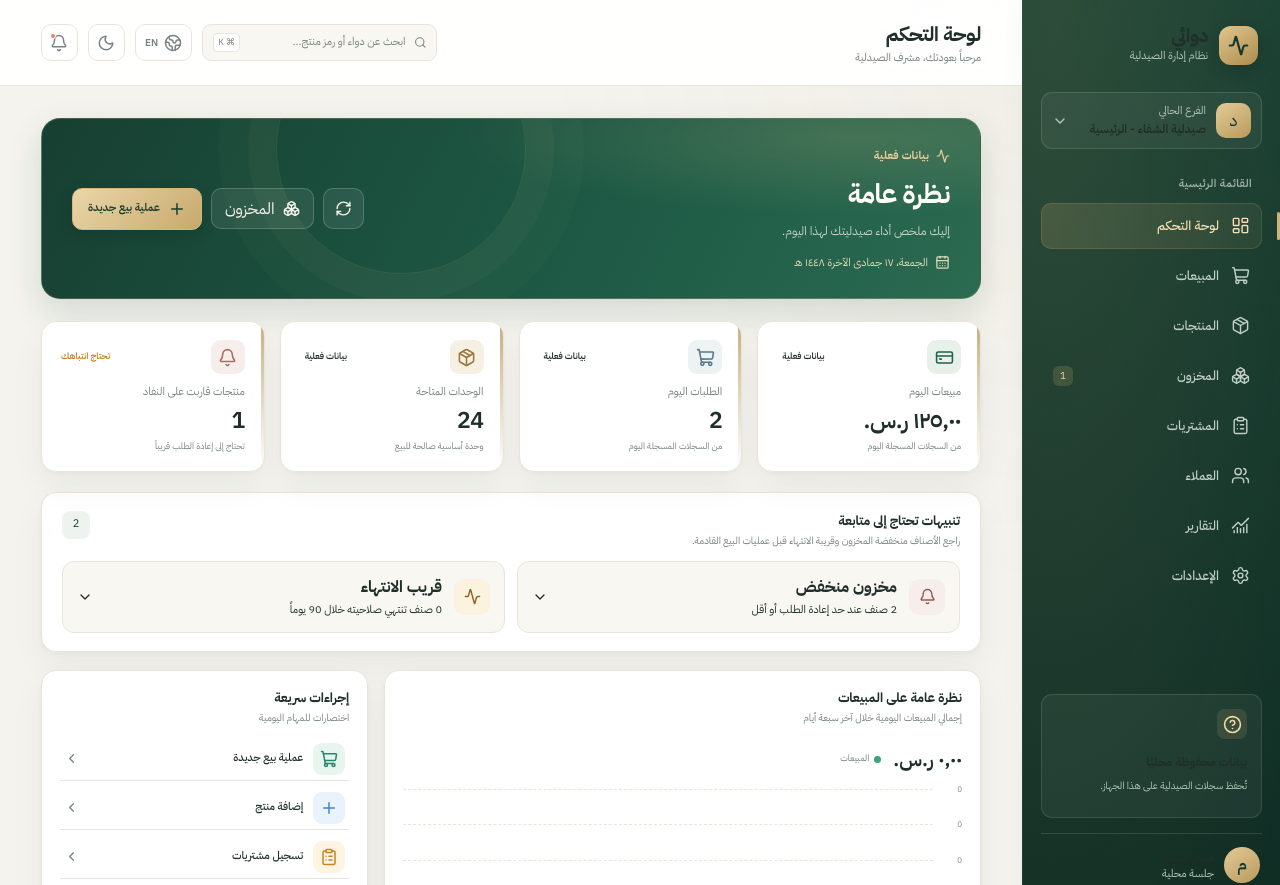
main application shell › filters point-of-sale products by stock and searches using Arabic-Indic barcode digits
Click the button "المبيعات" at (1152, 276), box [1041, 252, 1262, 298]
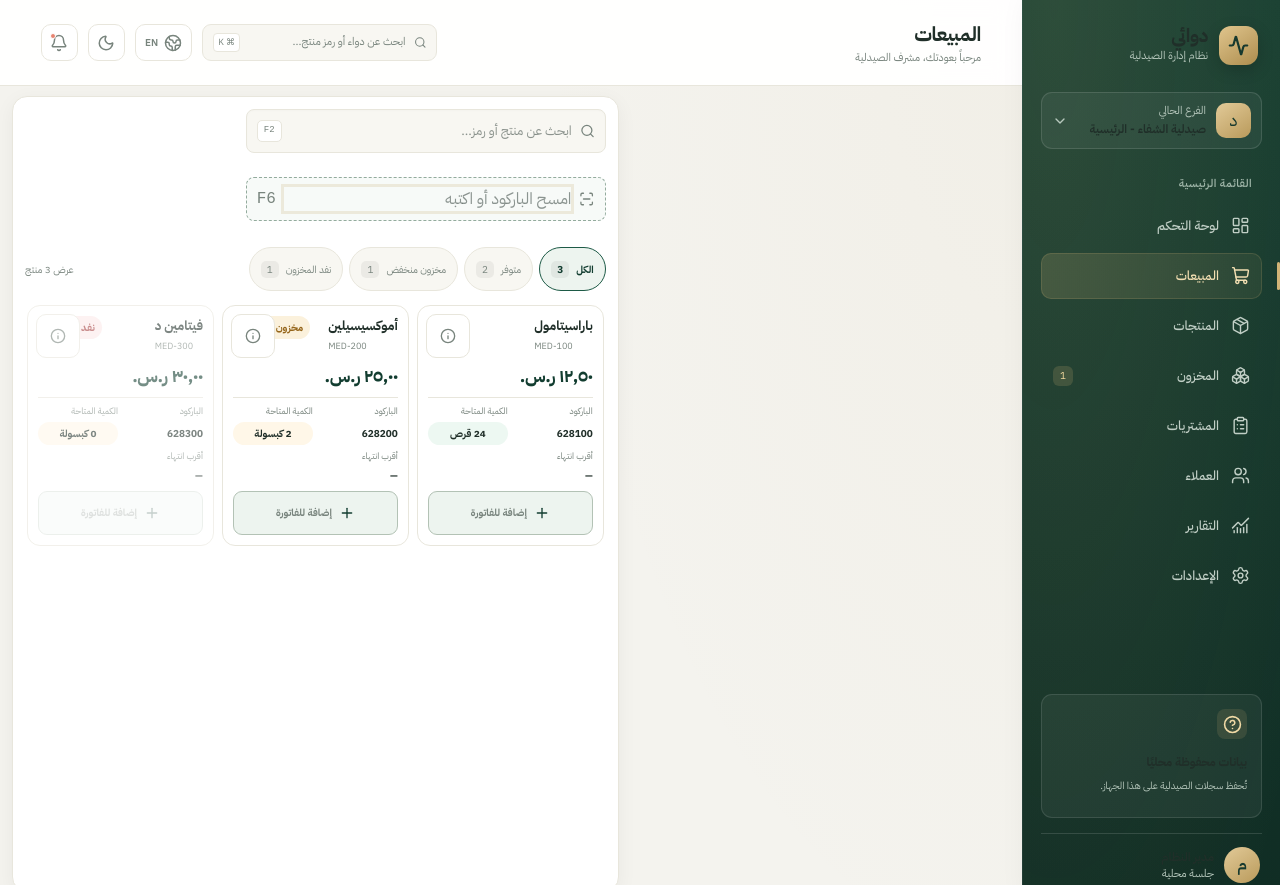
Type "٦٢٨١٠٠" into the field named "ابحث عن منتج أو رمز..." at (431, 131), box [290, 121, 572, 141]
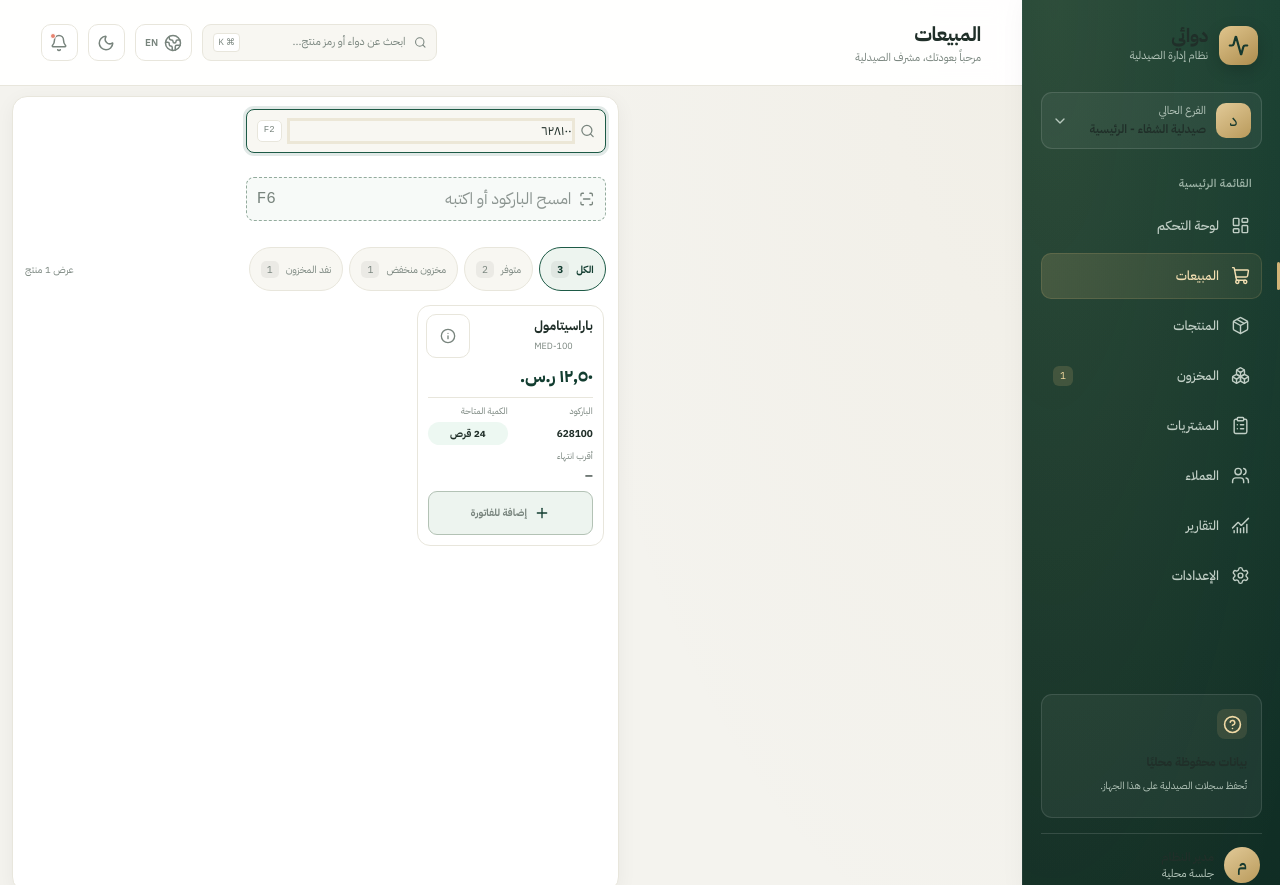
Check: the heading "باراسيتامول" is shown, box [534, 316, 593, 336]
Check: the button "أموكسيسيلين" is gone
Clear the field named "ابحث عن منتج أو رمز..." at (431, 131), box [290, 121, 572, 141]
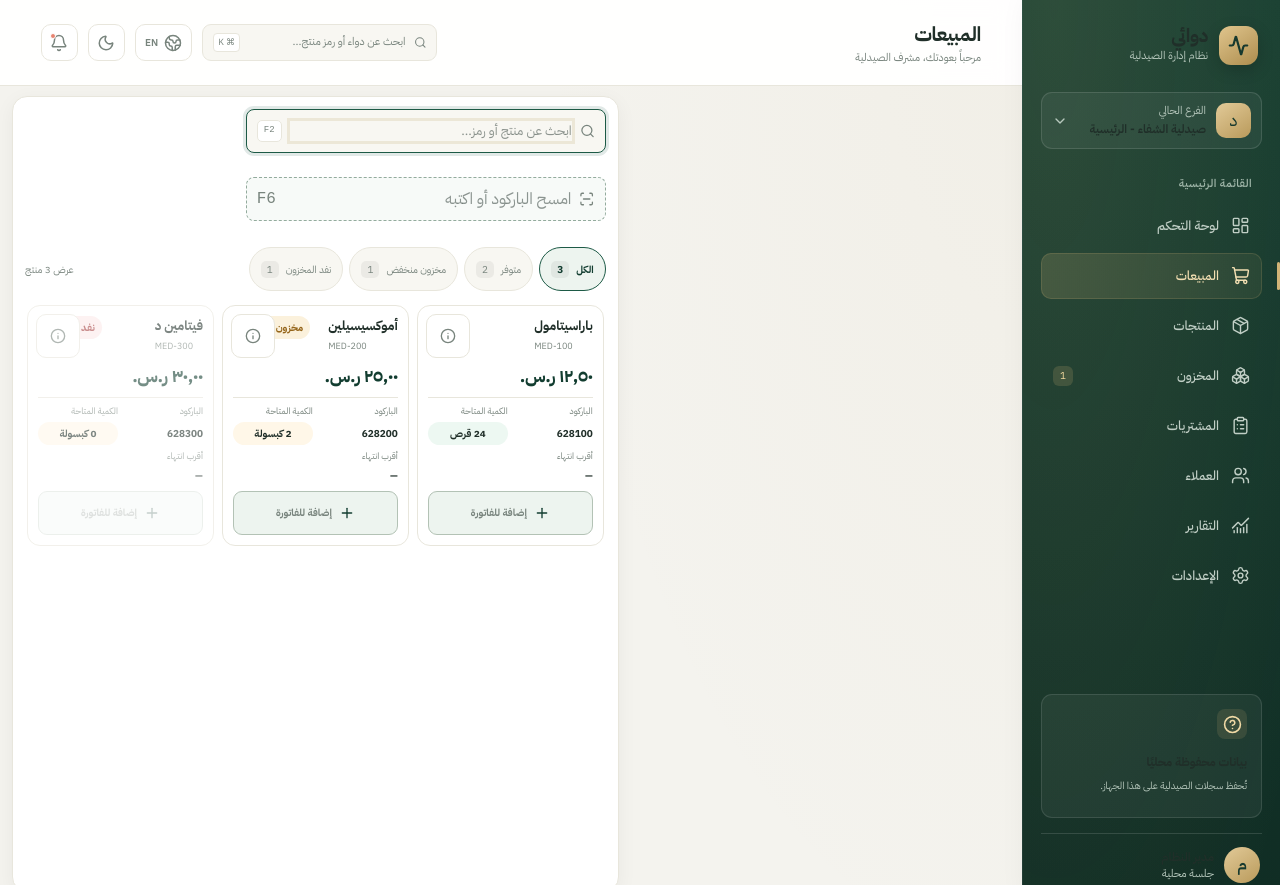
Click the button "مخزون منخفض 1" at (404, 269), box [349, 247, 458, 291]
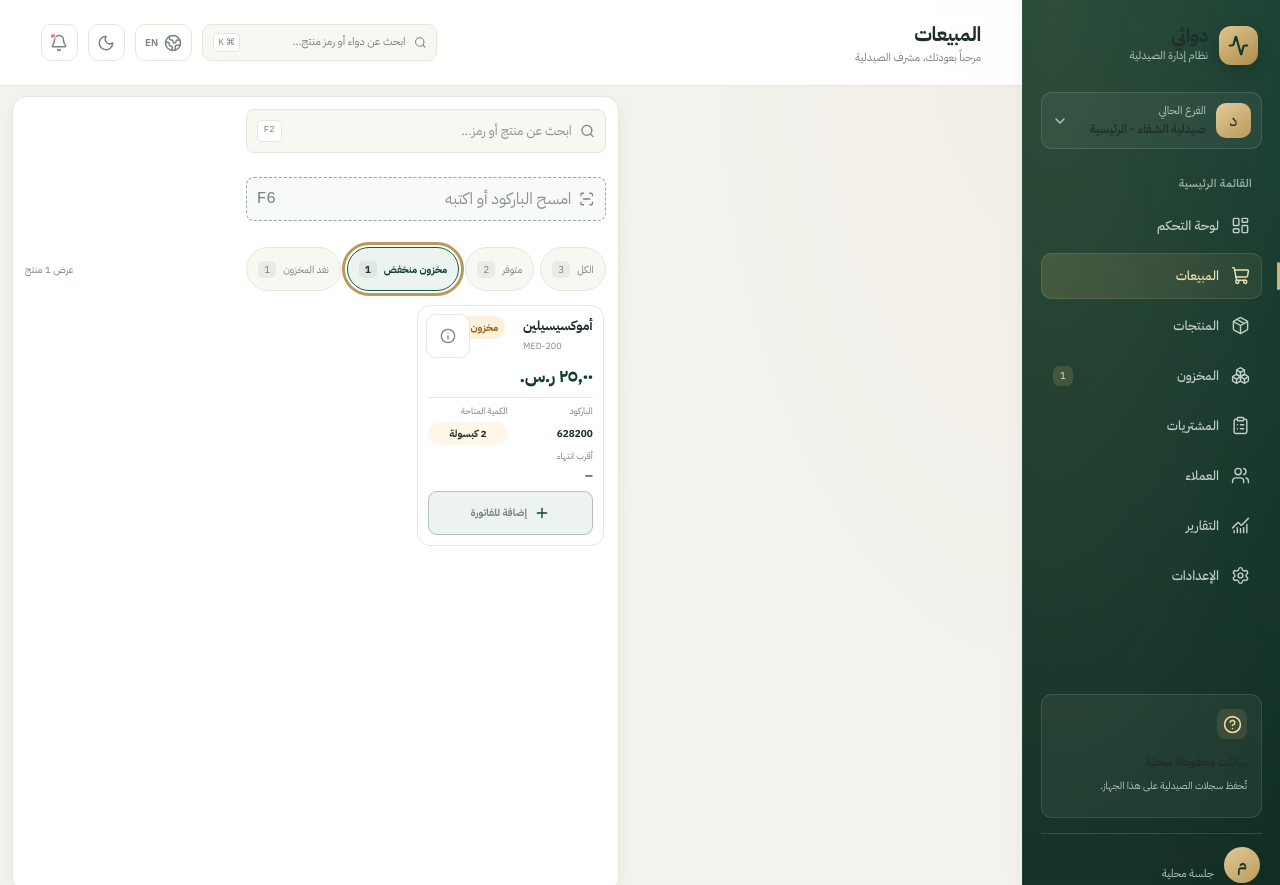
Check: the heading "أموكسيسيلين" is shown, box [523, 316, 593, 336]
Click the button "نفد المخزون 1" at (293, 269), box [246, 247, 341, 291]
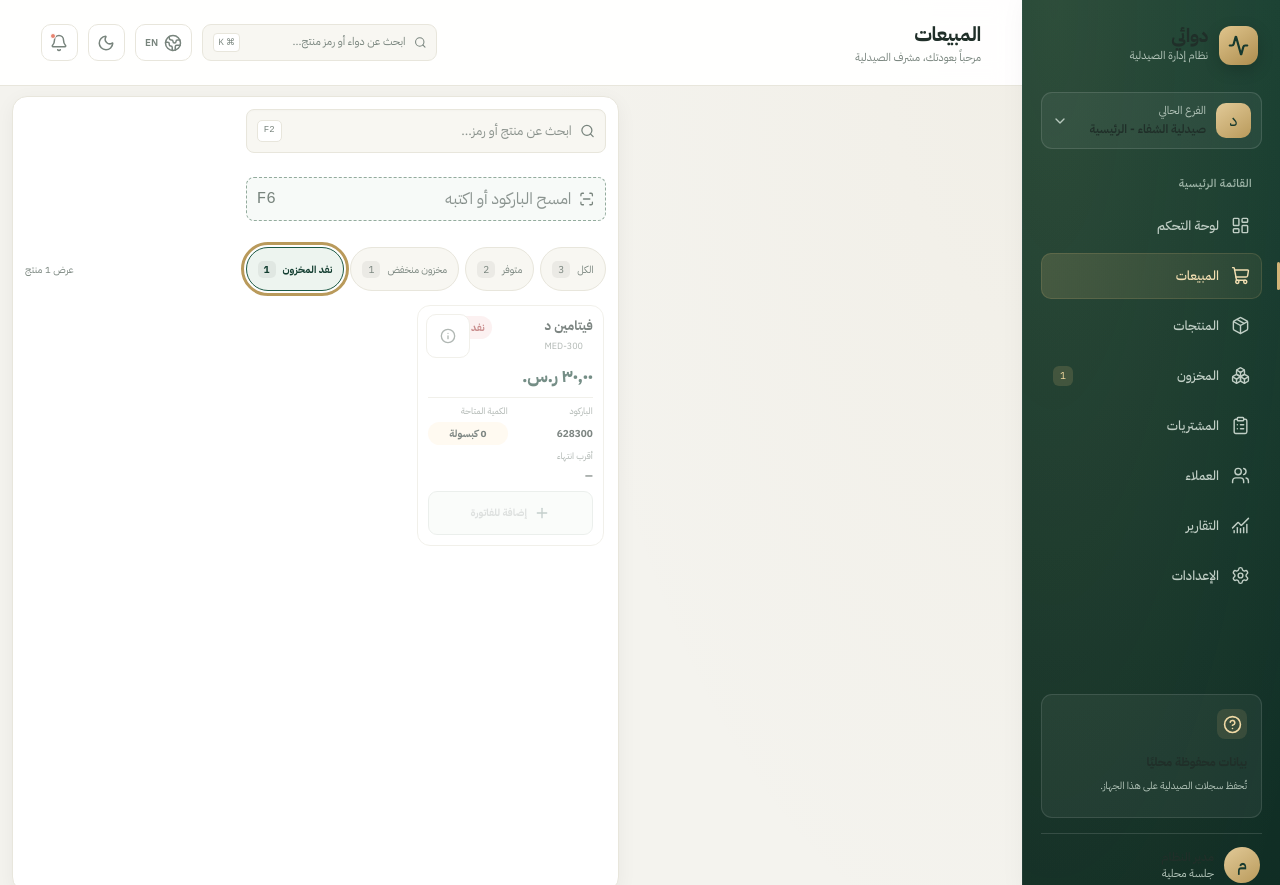
Check: the heading "فيتامين د" is shown, box [544, 316, 593, 336]
Check: the button "أموكسيسيلين" is gone
